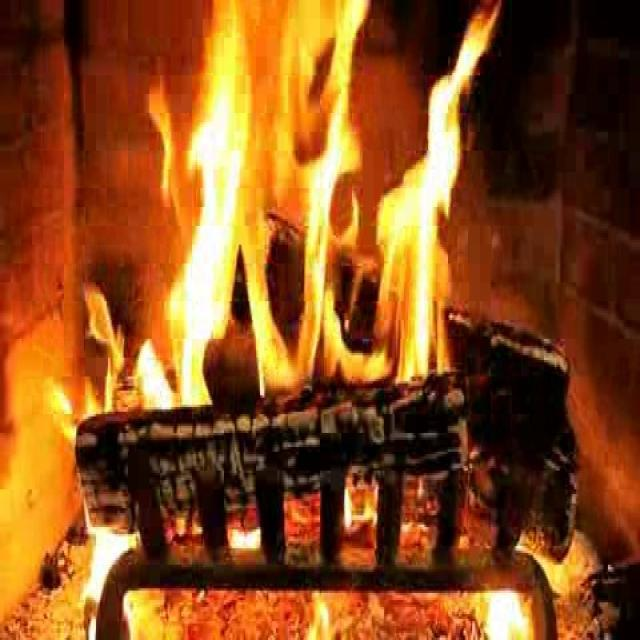Fire: (134, 7, 474, 430)
